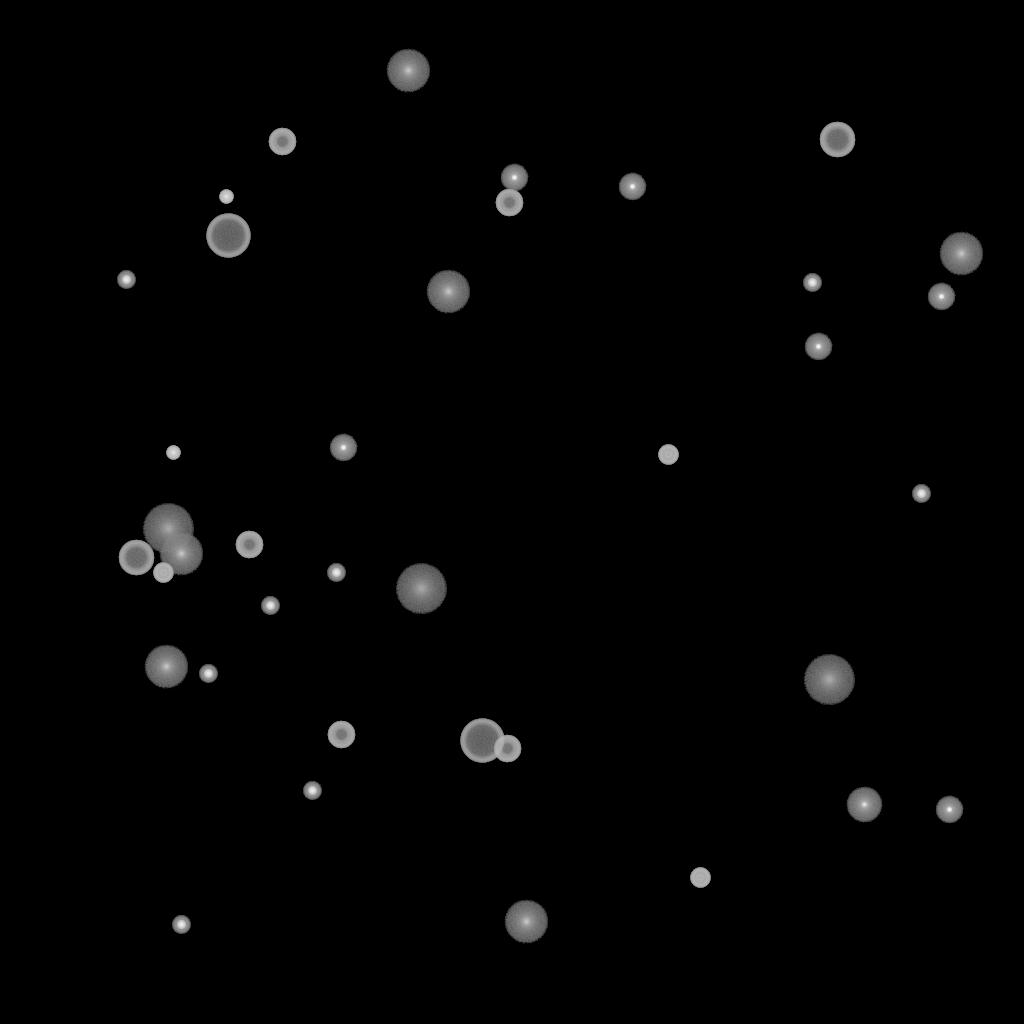depth:-10: (804, 333, 832, 361), (500, 164, 528, 192), (935, 796, 963, 824), (329, 434, 357, 462), (618, 173, 646, 201), (927, 283, 955, 311)
depth:-20: (303, 782, 321, 800), (261, 597, 279, 615), (912, 485, 930, 503), (803, 274, 821, 292), (172, 916, 190, 934), (327, 564, 345, 582), (117, 271, 135, 289), (199, 665, 217, 683)
depth:-30: (219, 190, 233, 204), (166, 446, 180, 460)
depth:-40: (690, 868, 710, 888), (153, 563, 173, 583), (658, 445, 678, 465)
depth:-50: (235, 531, 263, 559), (268, 128, 296, 156), (327, 721, 355, 749), (495, 189, 523, 217), (493, 735, 521, 763)
depth:-60: (118, 540, 154, 576), (819, 122, 855, 158)
depth:-70: (206, 214, 250, 258), (460, 719, 504, 763)
depth:0: (846, 787, 882, 823)
depth:10: (426, 270, 470, 314), (159, 532, 203, 576), (386, 49, 430, 93), (144, 645, 188, 689), (504, 900, 548, 944), (939, 232, 983, 276)
depth:20: (395, 564, 447, 614), (142, 504, 194, 554), (803, 655, 855, 705)
